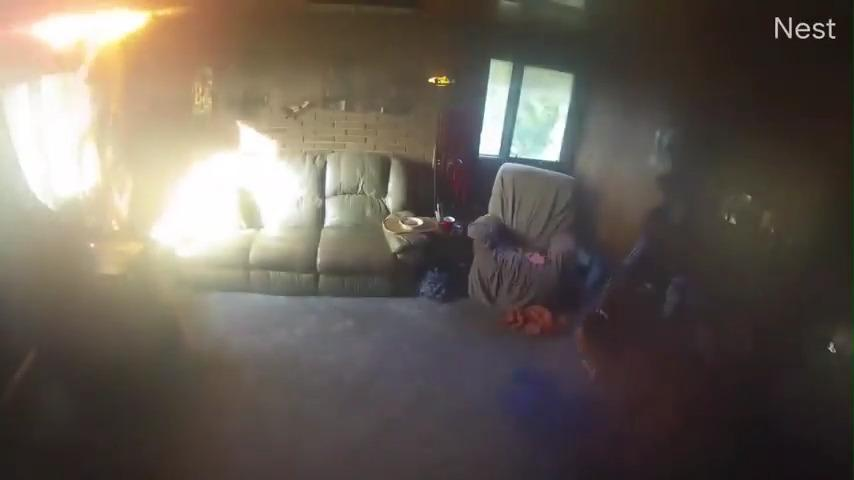fire: (18, 2, 172, 56)
